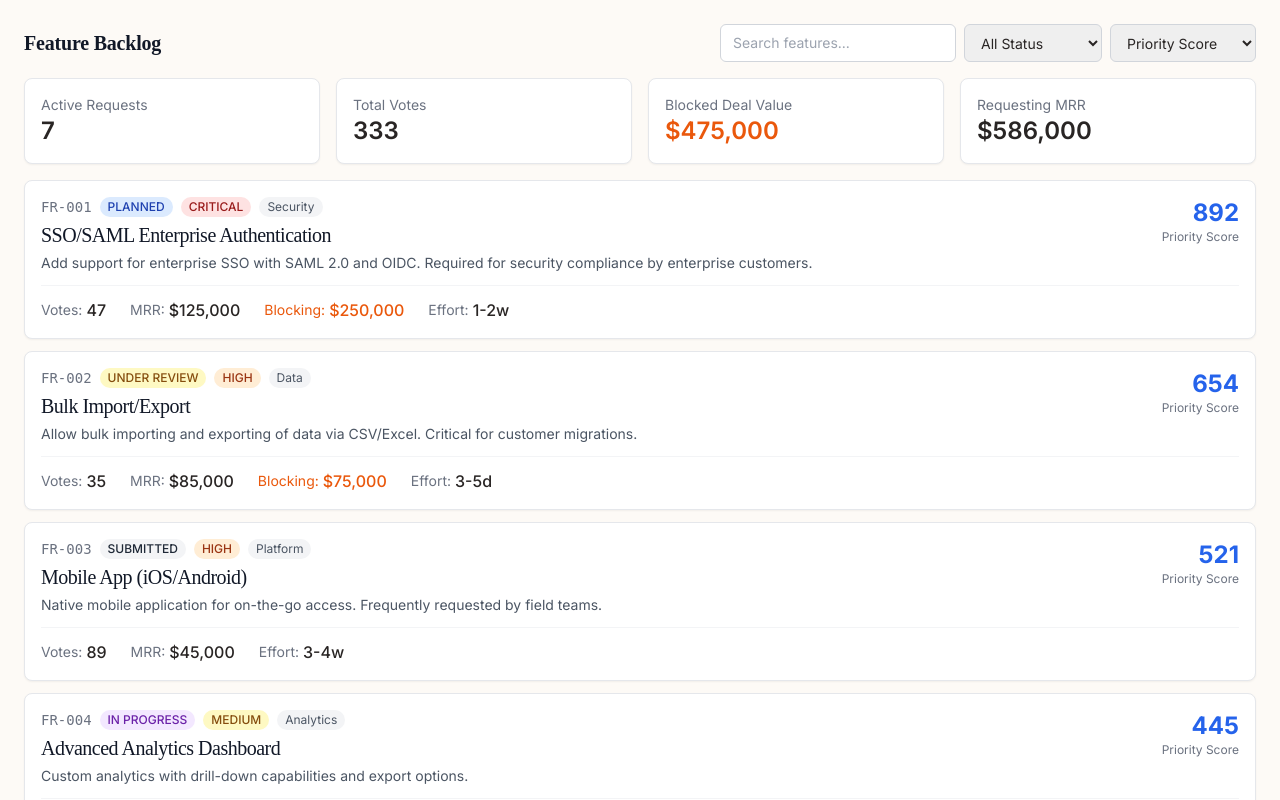
RoadmapView › filters features by search query
This screenshot has width=1280, height=800.
Expected: the heading "SSO/SAML Enterprise Authentication" is shown, [41,224,331,246]
In the field with placeholder "Search features...": (838, 43) [720,24,956,62], type "Mobile"
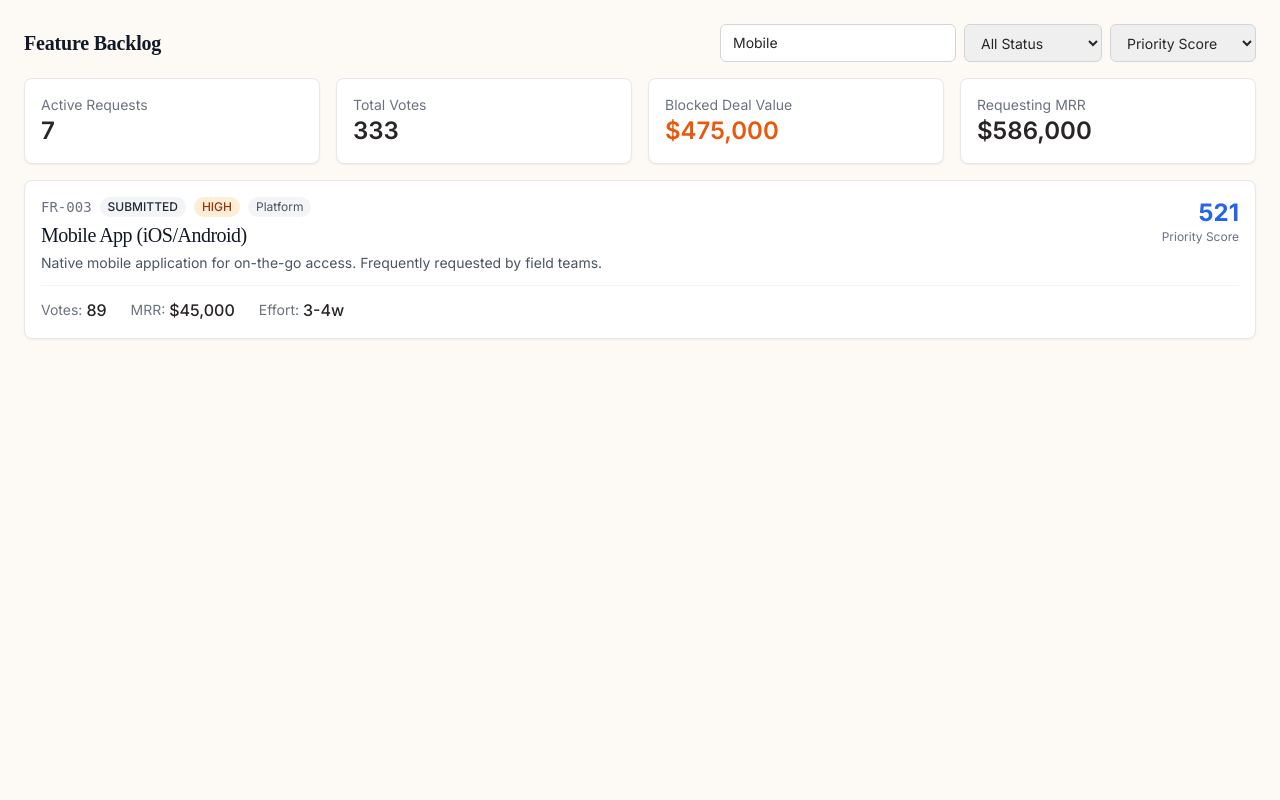
Expected: the heading "Mobile App (iOS/Android)" is shown, [41,224,247,246]
Expected: the heading "SSO/SAML Enterprise Authentication" is gone
